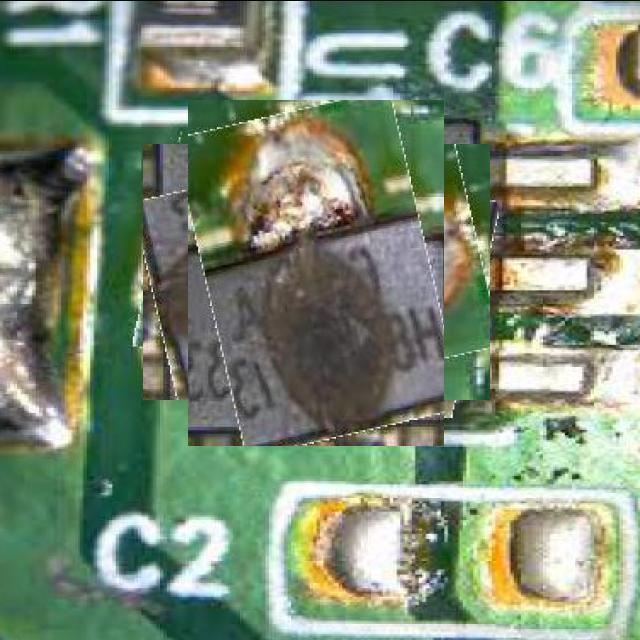damged: (166, 122, 467, 423)
